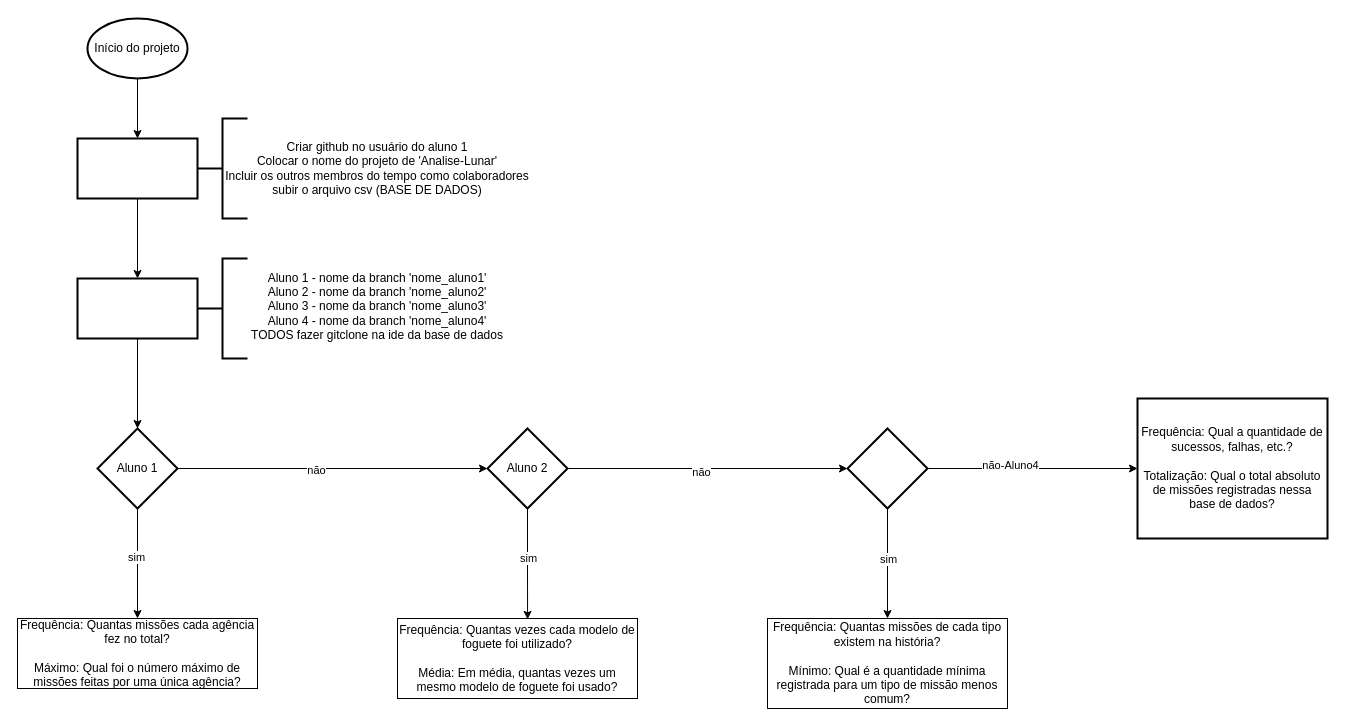
The diagram is 1346 pixels wide and 726 high, and some of its shapes have lost their labels. The centre of each missing label's shape, as x and y in pixels:
"Abrir IDE" goes at (137,308).
"Aluno 3" goes at (887,468).
"Criar github para o time" goes at (137,168).
